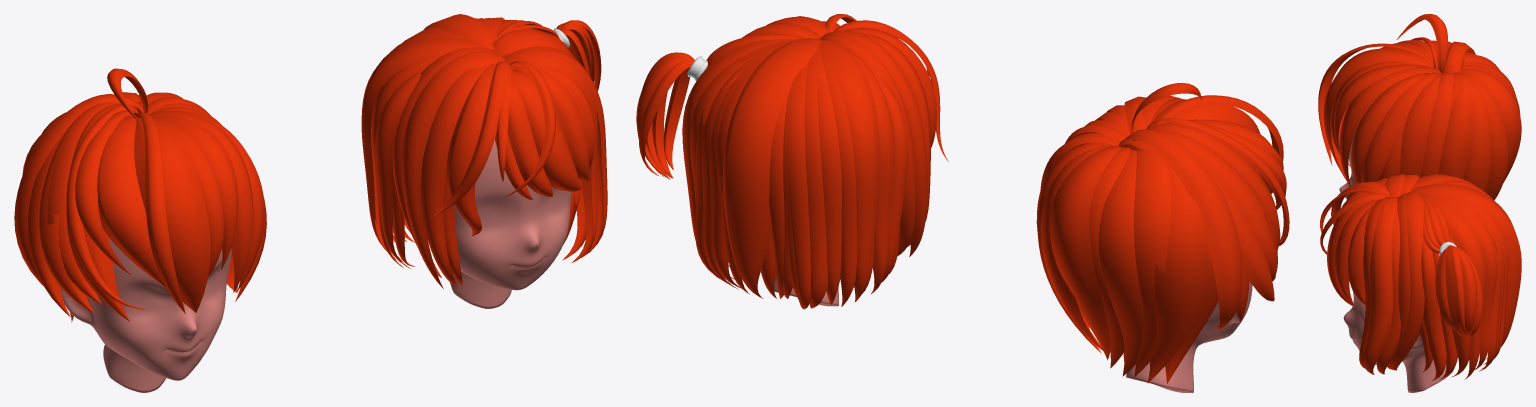
File: uploads_files_2966736_Hair+anime.fbx
3 views of the same model, side by side, from view 1: azimuth 30°, elevation 25°; view 2: azimuth 150°, elevation 25°; view 3: azimuth 270°, elevation 25° (orthographic). The views are drawn at different scales.
Visible parts, largest first — view 1: Hair-female, haiir-male, head-male, Head-female; view 2: Hair-female, haiir-male, head-male; view 3: Hair-female, haiir-male, Head-female, head-male.
Part boxes in pixels (x1=…): Hair-female: x1=361, y1=14, x2=607, y2=288; haiir-male: x1=14, y1=68, x2=266, y2=322; head-male: x1=60, y1=237, x2=231, y2=392; Head-female: x1=422, y1=130, x2=571, y2=308; Hair-female: x1=636, y1=14, x2=948, y2=309; haiir-male: x1=1036, y1=83, x2=1289, y2=383; head-male: x1=1126, y1=281, x2=1252, y2=392; Hair-female: x1=1320, y1=174, x2=1521, y2=380; haiir-male: x1=1318, y1=14, x2=1521, y2=200; Head-female: x1=1343, y1=291, x2=1454, y2=392; head-male: x1=1339, y1=72, x2=1431, y2=198.
Size of the model in its own units: 814 by 416 by 320.
